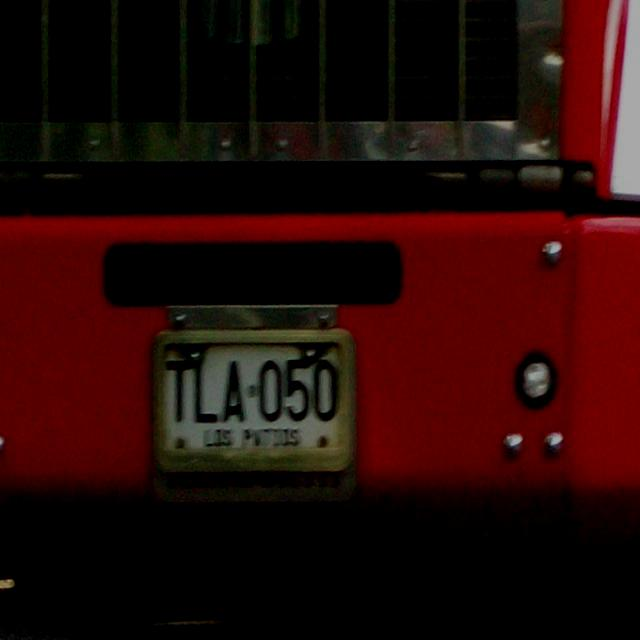placa: (162, 340, 346, 454)
